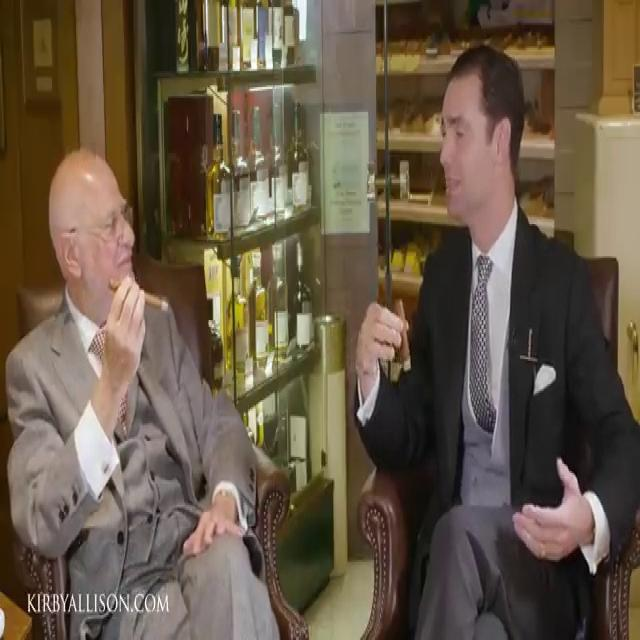Smooking: (102, 265, 176, 321), (386, 289, 419, 383)
